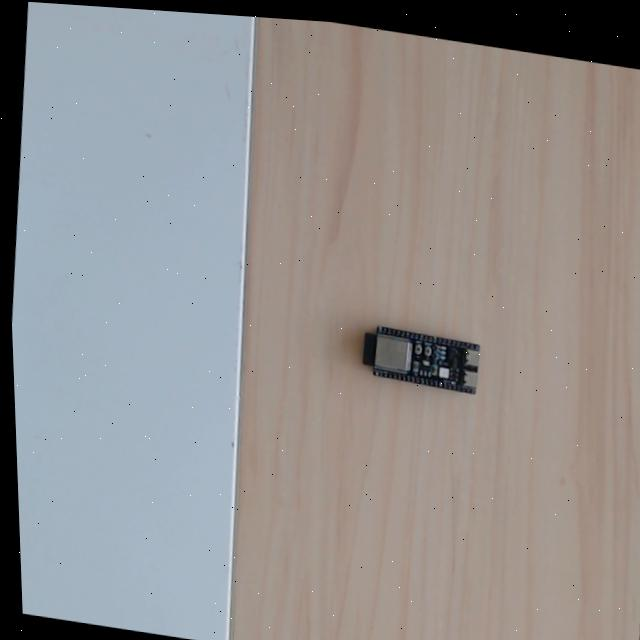ESP32S3-Devkit: (357, 321, 486, 396)
